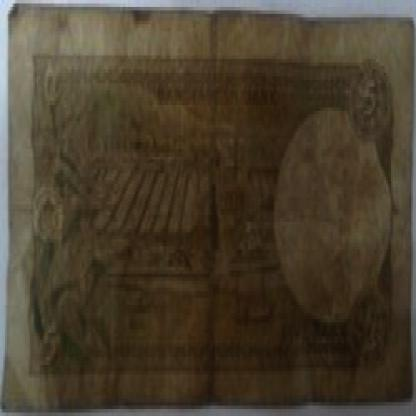Five Taka: (353, 69, 386, 139), (358, 295, 386, 374), (40, 56, 70, 108)
